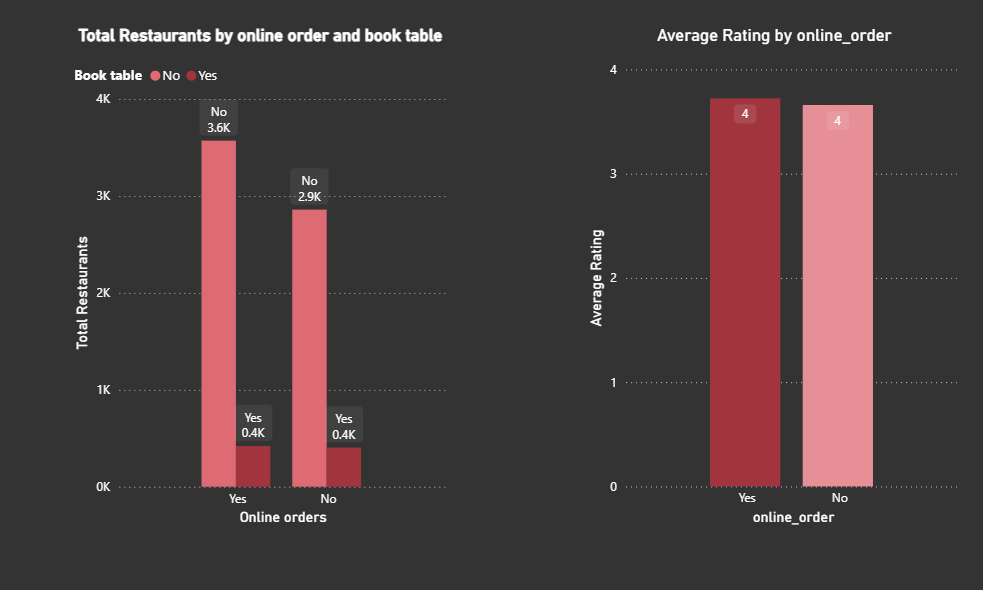

The dashboard page shown, as its layout file describes it:
{"tool":"powerbi","page":{"name":"Customer_service","canvas":[1280,720],"ordinal":2},"visuals":[{"type":"clusteredColumnChart","title":"Total Restaurants by online order and book table","fields":{"Category":["cleaned_data_powerbi.online_order"],"Series":["cleaned_data_powerbi.book_table"],"Y":["cleaned_data_powerbi.Total Restaurants"]},"box":[106.2,41.2,382.5,505],"z":0},{"type":"clusteredColumnChart","fields":{"Category":["cleaned_data_powerbi.online_order"],"Y":["cleaned_data_powerbi.Average Rating"]},"box":[620,41.2,382.5,505],"z":1}]}

Visuals, with their boxes on the page's 1280x720 design canvas (x1, y1, x2, y2). These are canvas units, not pixel positions in the 983x590 screenshot, which may show the page scaled, cropped or inside an application window:
"Total Restaurants by online order and book table" clusteredColumnChart: locate(106, 41, 489, 546)
clusteredColumnChart - cleaned_data_powerbi.online_order x cleaned_data_powerbi.Average Rating: locate(620, 41, 1002, 546)
